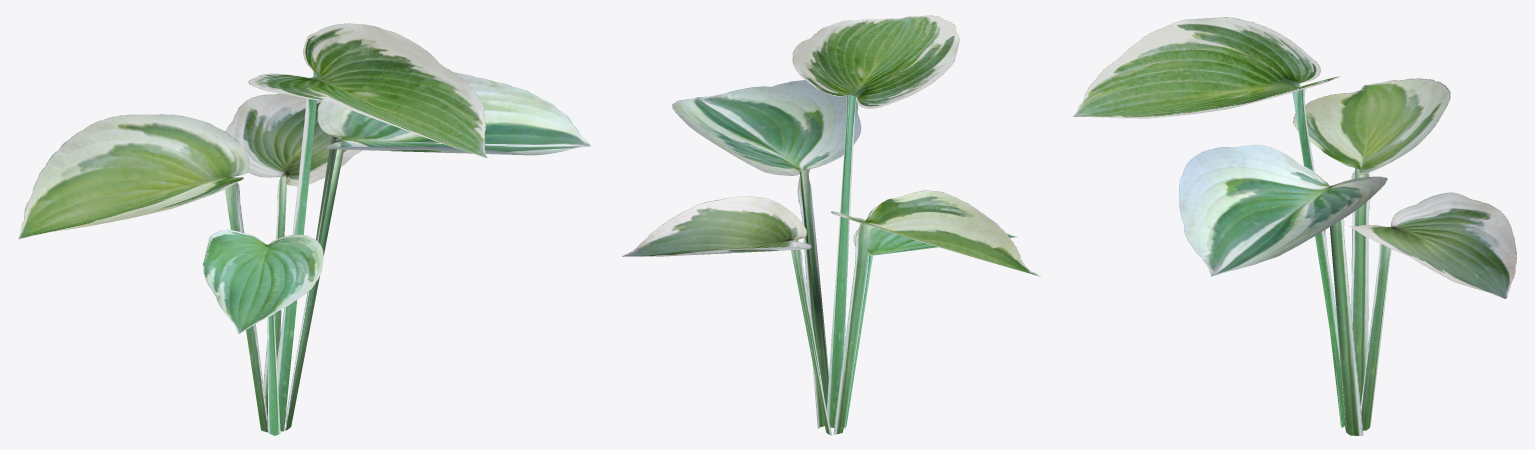
Rendered from plant_small_wg_00D2.fbx.
3 views of the same model, side by side, from view 1: azimuth 30°, elevation 25°; view 2: azimuth 150°, elevation 25°; view 3: azimuth 270°, elevation 25° (orthographic). The views are drawn at different scales.
Parts seen in each view (by area): view 1: plant_small_wg_00D2; view 2: plant_small_wg_00D2; view 3: plant_small_wg_00D2.
Boxes of the visible parts, x1,y1,x2,y2 form: plant_small_wg_00D2: (18,23,590,435); plant_small_wg_00D2: (622,15,1040,435); plant_small_wg_00D2: (1073,17,1516,435).
Size of the model in its own units: 31.04 by 24.79 by 26.13.
1 material, 1 textured.
